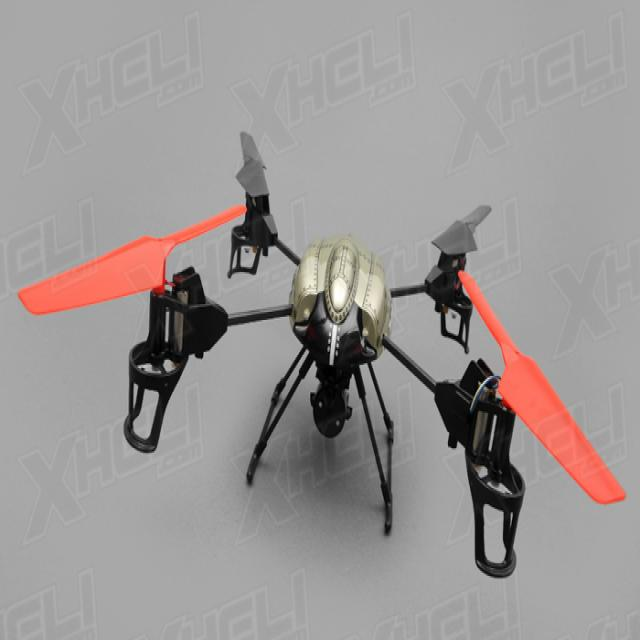drone: (5, 122, 601, 556)
